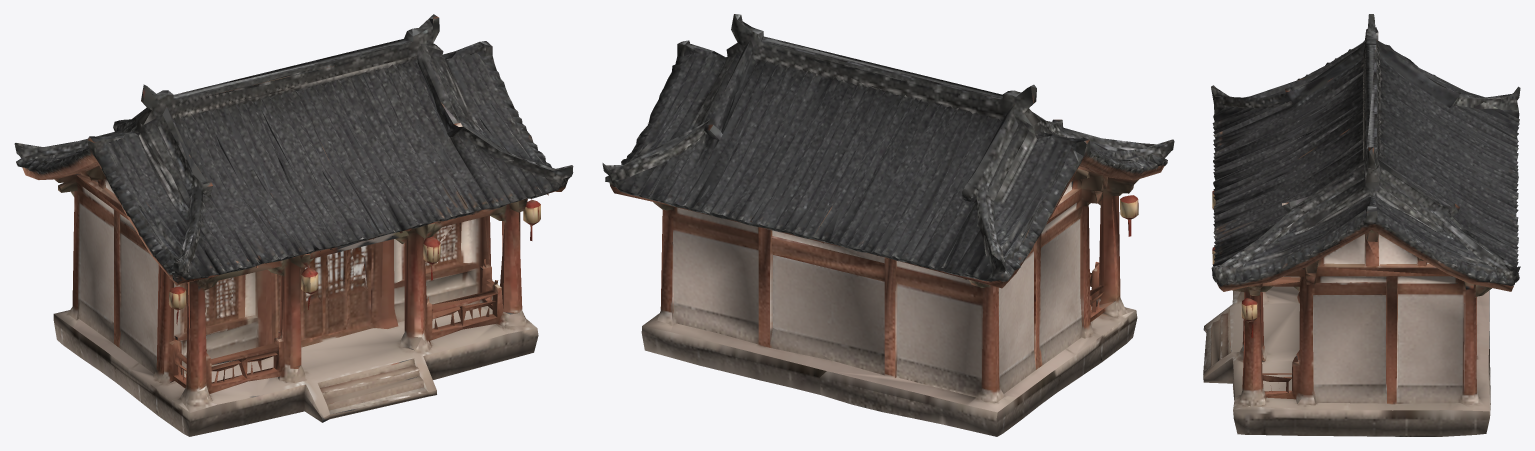
The model's file is 18_Neighborhood_Shrine_LOD2.fbx.
3 renders of one model, left to right at view 1: azimuth 30°, elevation 25°; view 2: azimuth 150°, elevation 25°; view 3: azimuth 270°, elevation 25°, orthographic. The views are drawn at different scales.
Parts seen in each view (by area): view 1: 18_Neighborhood_Shrine_L2; view 2: 18_Neighborhood_Shrine_L2; view 3: 18_Neighborhood_Shrine_L2.
Part boxes in pixels (x1,y1,x2,y2): 18_Neighborhood_Shrine_L2: [14, 14, 573, 436]; 18_Neighborhood_Shrine_L2: [602, 14, 1174, 436]; 18_Neighborhood_Shrine_L2: [1203, 14, 1520, 436].
Size of the model in its own units: 8.51 by 6 by 6.22.
